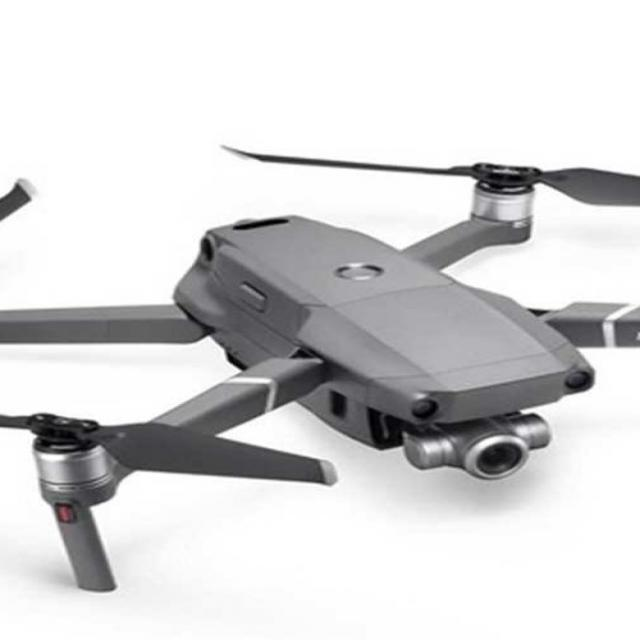drone: (0, 159, 640, 540)
